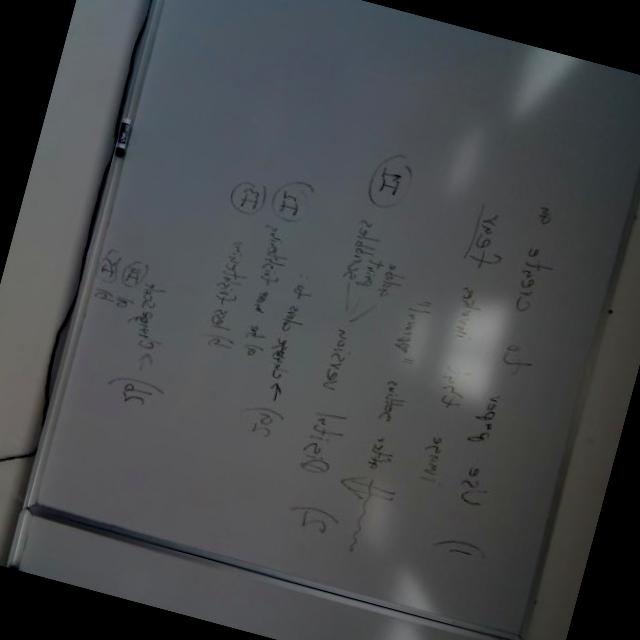White-board: (10, 0, 640, 640)
